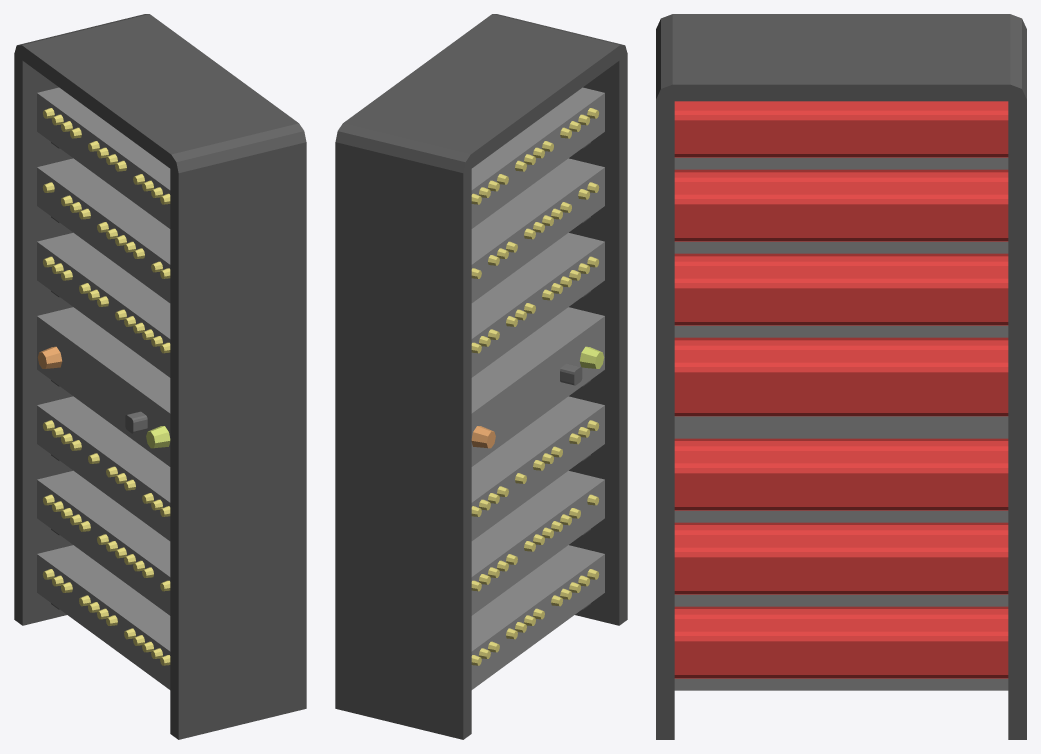
File: ServerRack_PD.fbx
3 views of the same model, side by side, from view 1: azimuth 30°, elevation 25°; view 2: azimuth 150°, elevation 25°; view 3: azimuth 270°, elevation 25° (orthographic). The views are drawn at different scales.
Parts seen in each view (by area): view 1: Rack; view 2: Rack; view 3: Rack.
Boxes of the visible parts, x1=… form: Rack: x1=14, y1=14, x2=306, y2=739; Rack: x1=335, y1=14, x2=627, y2=739; Rack: x1=656, y1=14, x2=1026, y2=739.
Bounding box in the file's own units: 90 × 390 × 200.
